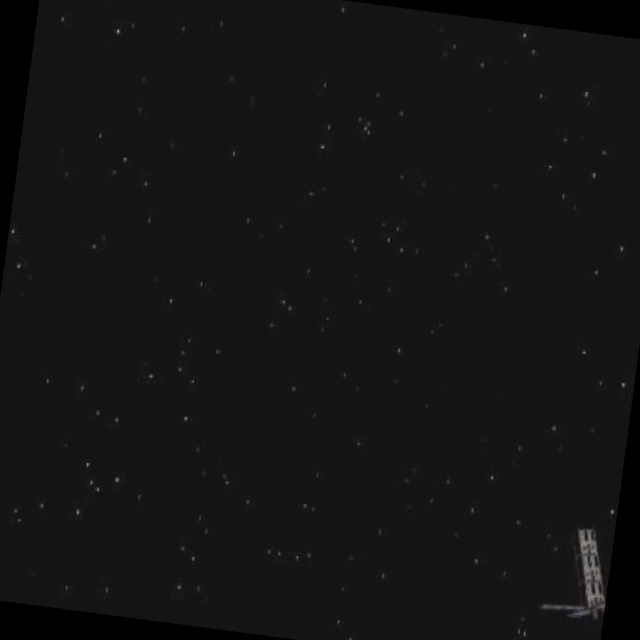medium_debris: (535, 515, 616, 633)
